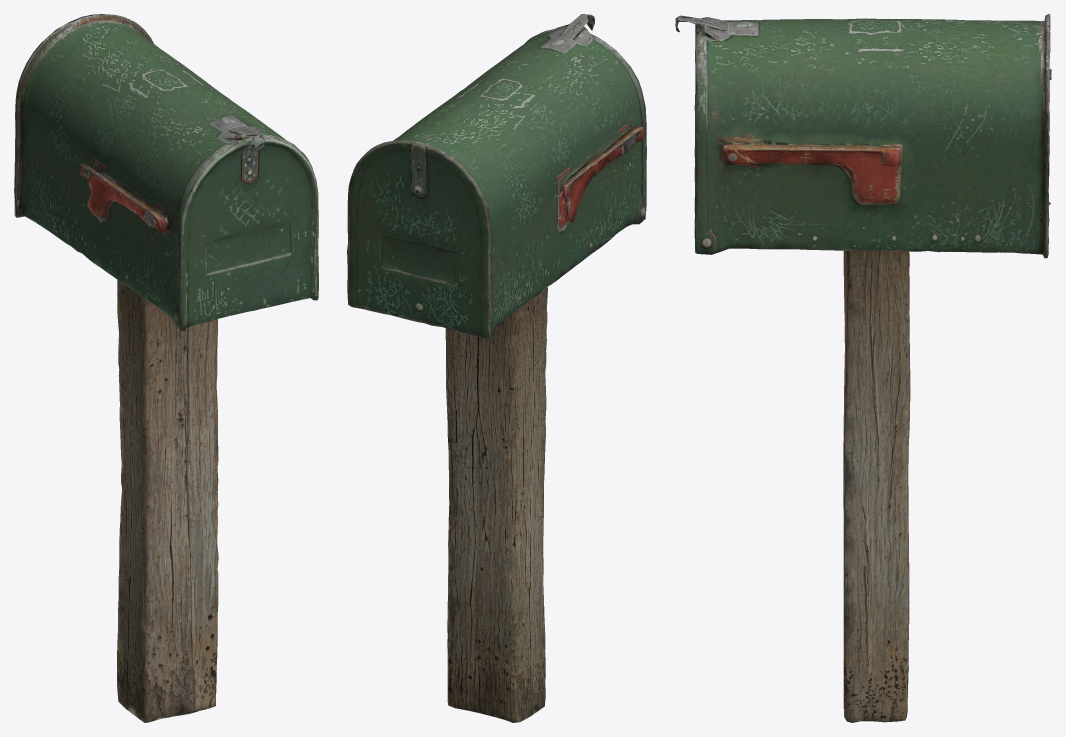
Rendered from Mailbox.glb.
3 views of the same model, side by side, from view 1: azimuth 30°, elevation 25°; view 2: azimuth 150°, elevation 25°; view 3: azimuth 270°, elevation 25° (orthographic). The views are drawn at different scales.
Parts seen in each view (by area): view 1: texture_mapping; view 2: texture_mapping; view 3: texture_mapping.
Boxes of the visible parts, x1,y1,x2,y2 form: texture_mapping: [14, 14, 318, 722]; texture_mapping: [347, 14, 646, 722]; texture_mapping: [675, 14, 1051, 722].
Bounding box in the file's own units: 0.2575 × 0.9997 × 0.4964.
Materials: 1 (1 with a texture image).
